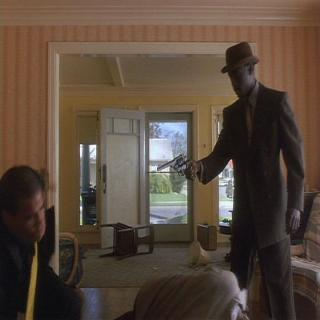gun: (154, 146, 198, 184)
